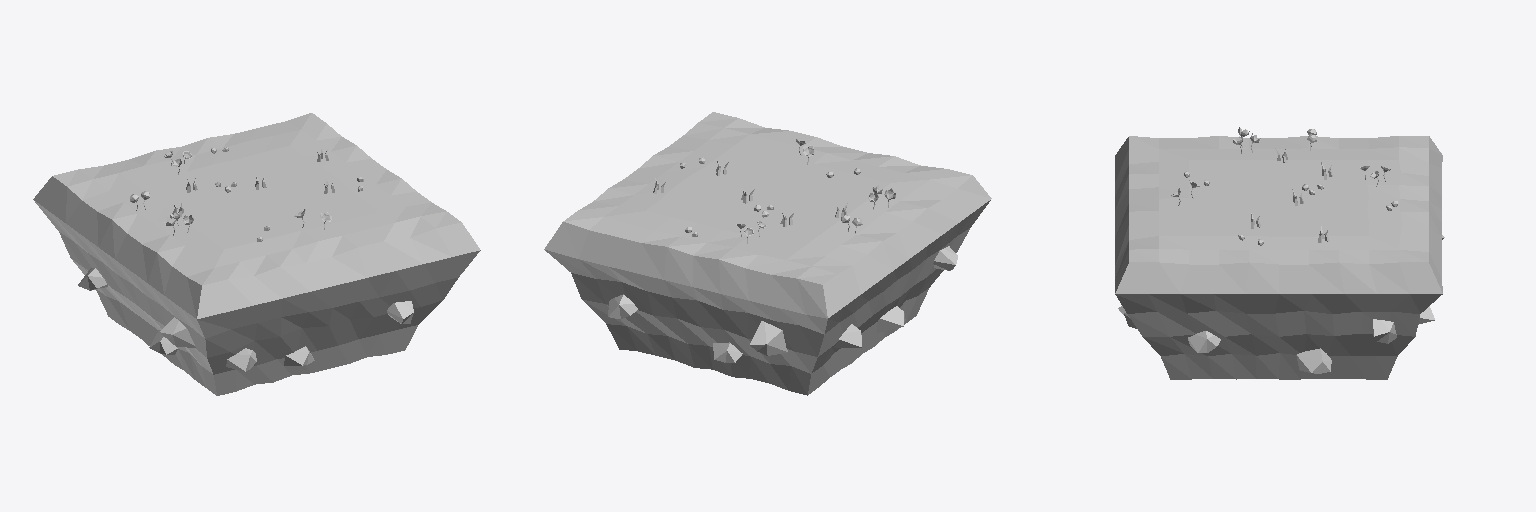
Rendered from island.obj.
3 renders of one model, left to right at view 1: azimuth 30°, elevation 25°; view 2: azimuth 150°, elevation 25°; view 3: azimuth 270°, elevation 25°, orthographic.
Parts seen in each view (by area): view 1: Terrain_01_Grassland_0, Rock_02.003_Grassland_0; view 2: Terrain_01_Grassland_0, Rock_02.002_Grassland_0; view 3: Terrain_01_Grassland_0, Rock_01.008_Grassland_0.
Part boxes in pixels (left/top/right/bottom): Terrain_01_Grassland_0: left=33, top=113, right=480, bottom=395; Rock_02.003_Grassland_0: left=160, top=317, right=195, bottom=347; Terrain_01_Grassland_0: left=544, top=112, right=991, bottom=395; Rock_02.002_Grassland_0: left=750, top=321, right=787, bottom=355; Terrain_01_Grassland_0: left=1115, top=136, right=1442, bottom=379; Rock_01.008_Grassland_0: left=1296, top=348, right=1331, bottom=373.
Bounding box in the file's own units: 2.01 × 1.06 × 2.01.